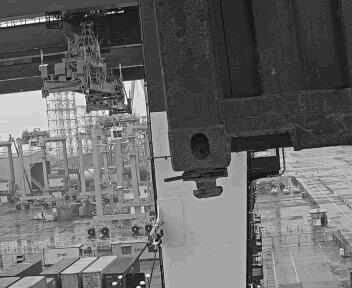twist_lock_1: (172, 161, 233, 205)
